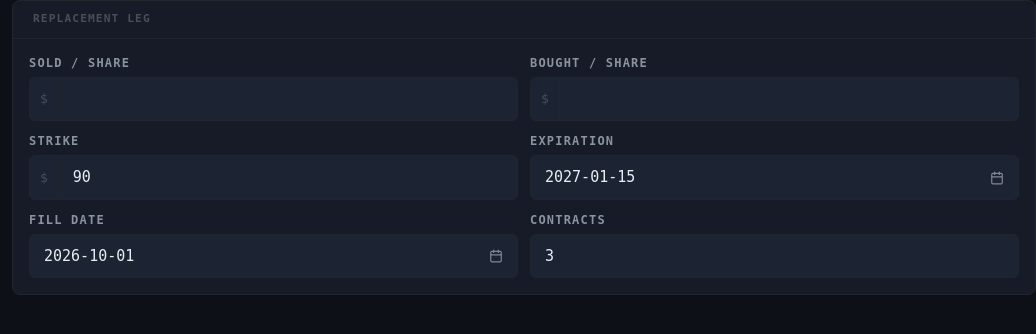
it: PmccRollFields › a strike change re-checks the no-change rule
The width and height of the screenshot is (1036, 334).
Replace the text in the field with id "test-roll-strike" with "100": (288, 178) [59,156,517,199]
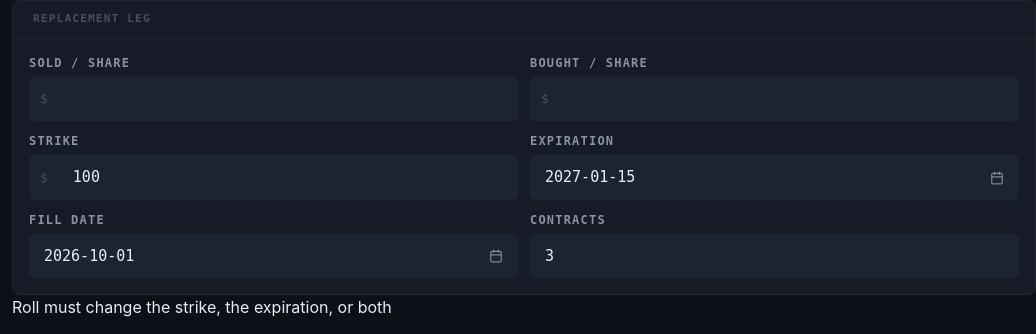
Result: the text with test id "no-change" reads "Roll must change the strike, the expiration, or both" at [12,297,392,317]
